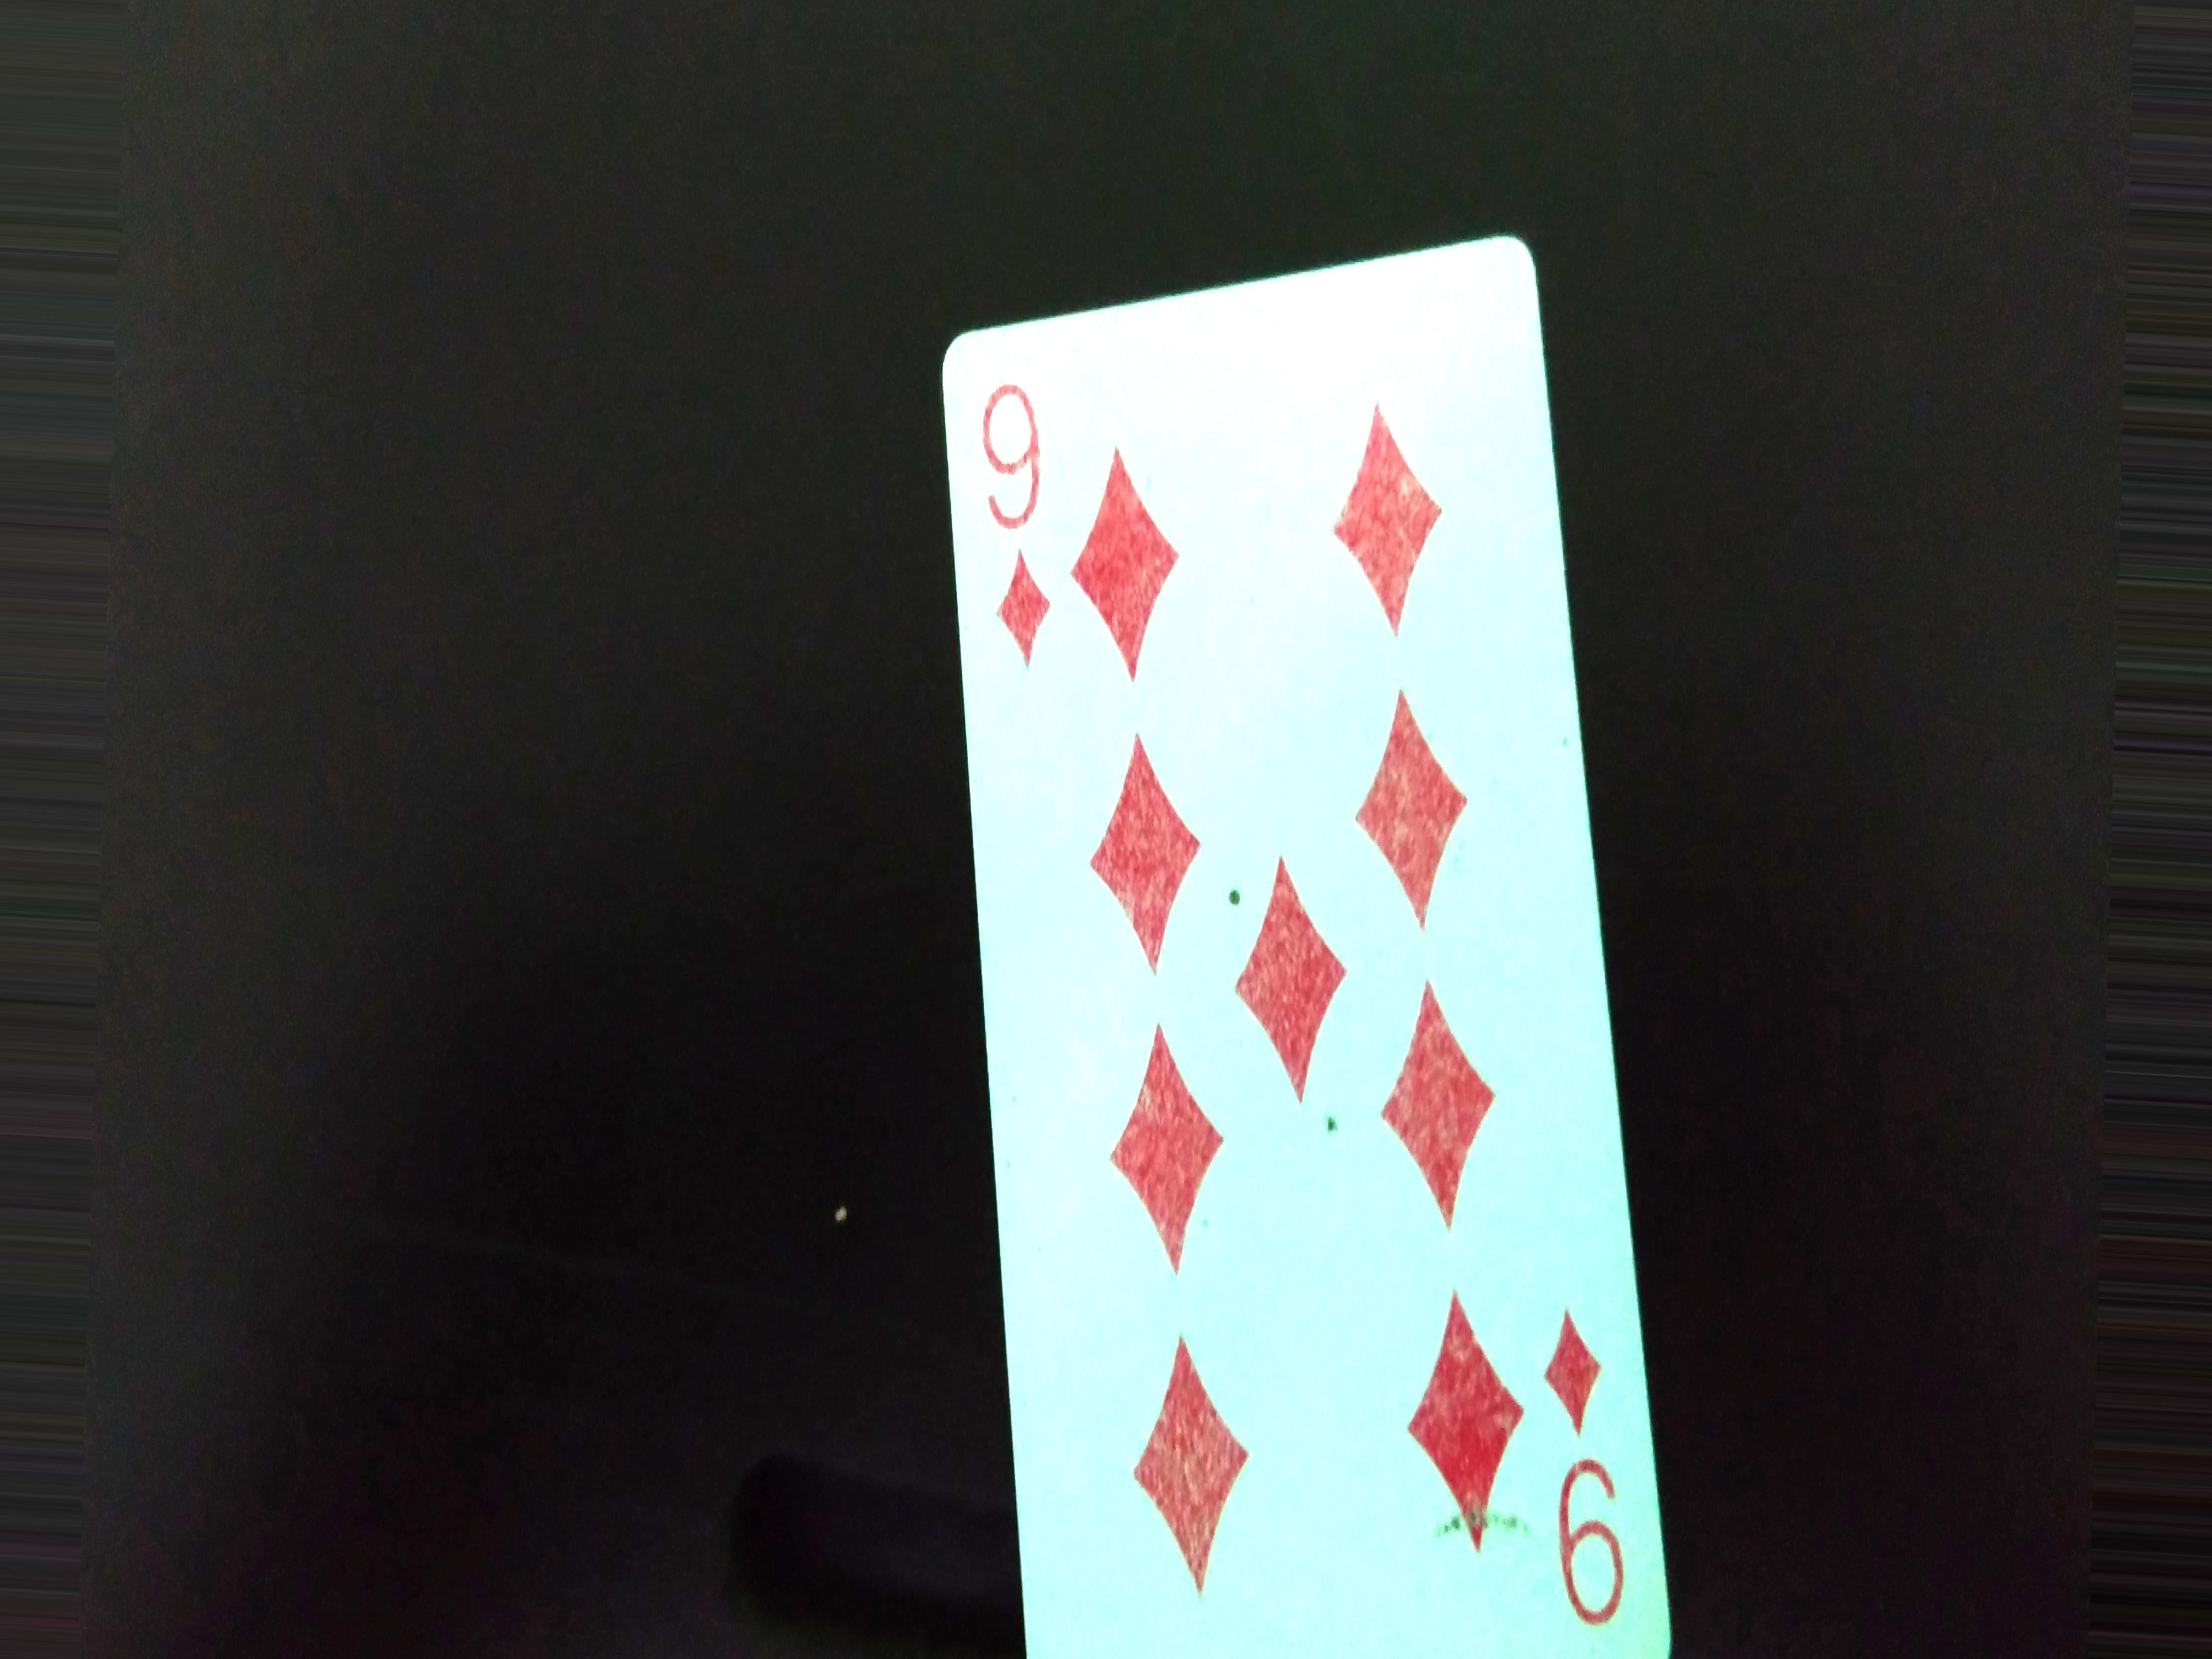9D: (961, 355, 1076, 713)
